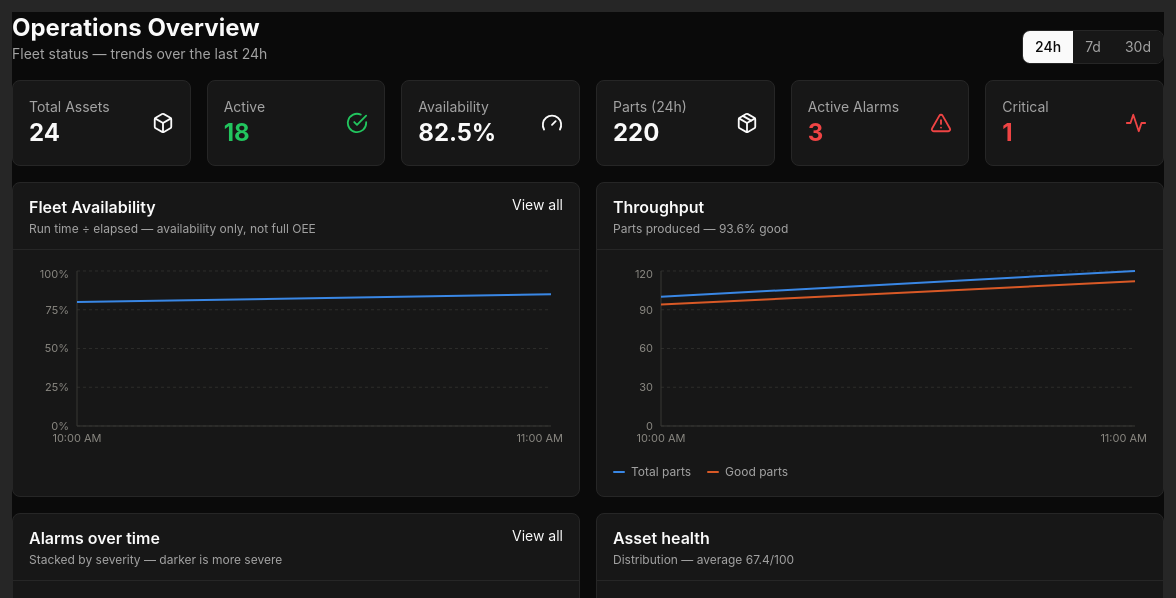
Test case: Dashboard › the time range actually drives the queries
Expected: the text "24" is shown, [29,118,60,147]
Click the button "30d" at (1138, 47), box [1113,31,1163,63]
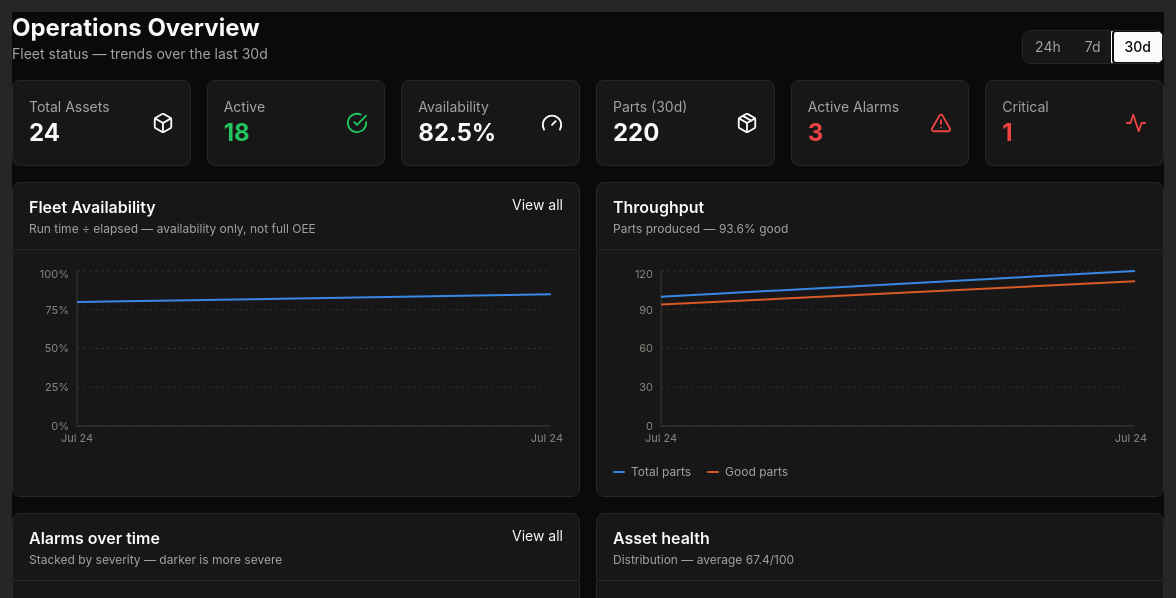
Now the text "Fleet status — trends over the last 30d" is shown, box [12,44,268,64]
